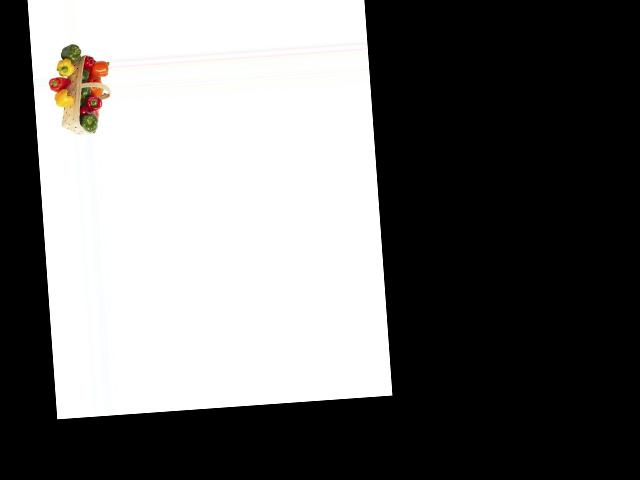bell_pepper: (81, 111, 98, 132)
